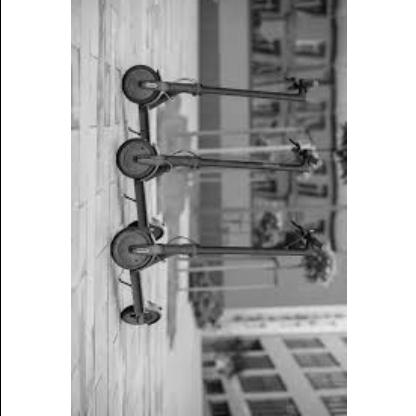bike: (109, 64, 335, 329)
